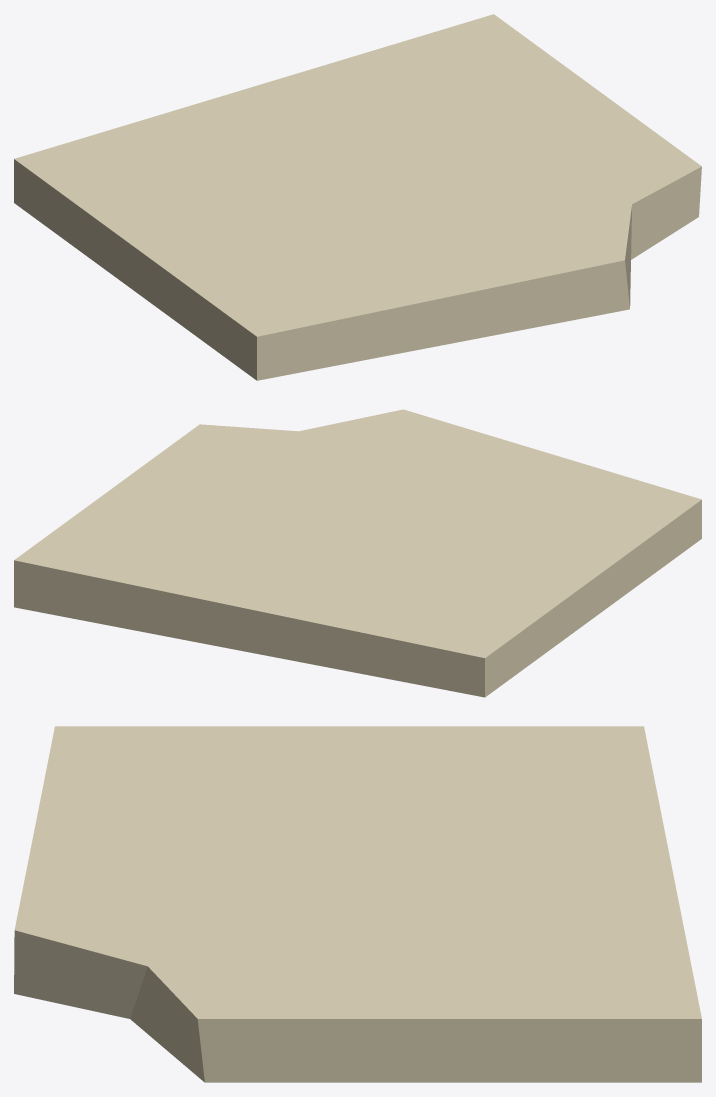
The model's file is Destroy_Plate_2.fbx.
The picture shows the model from 3 angles, top to bottom: view 1: azimuth 30°, elevation 25°; view 2: azimuth 150°, elevation 25°; view 3: azimuth 270°, elevation 25°; orthographic projection. The views are drawn at different scales.
Visible parts, largest first — view 1: Destroy_Plate_2; view 2: Destroy_Plate_2; view 3: Destroy_Plate_2.
Part boxes in pixels (bbox=[...]): Destroy_Plate_2: bbox=[14, 14, 701, 380]; Destroy_Plate_2: bbox=[14, 409, 701, 697]; Destroy_Plate_2: bbox=[14, 726, 701, 1082].
Bounding box in the file's own units: 300 × 30 × 293.
